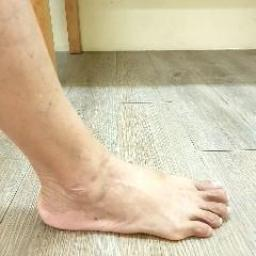Lateral View -Right Foot-: (21, 120, 242, 250)
